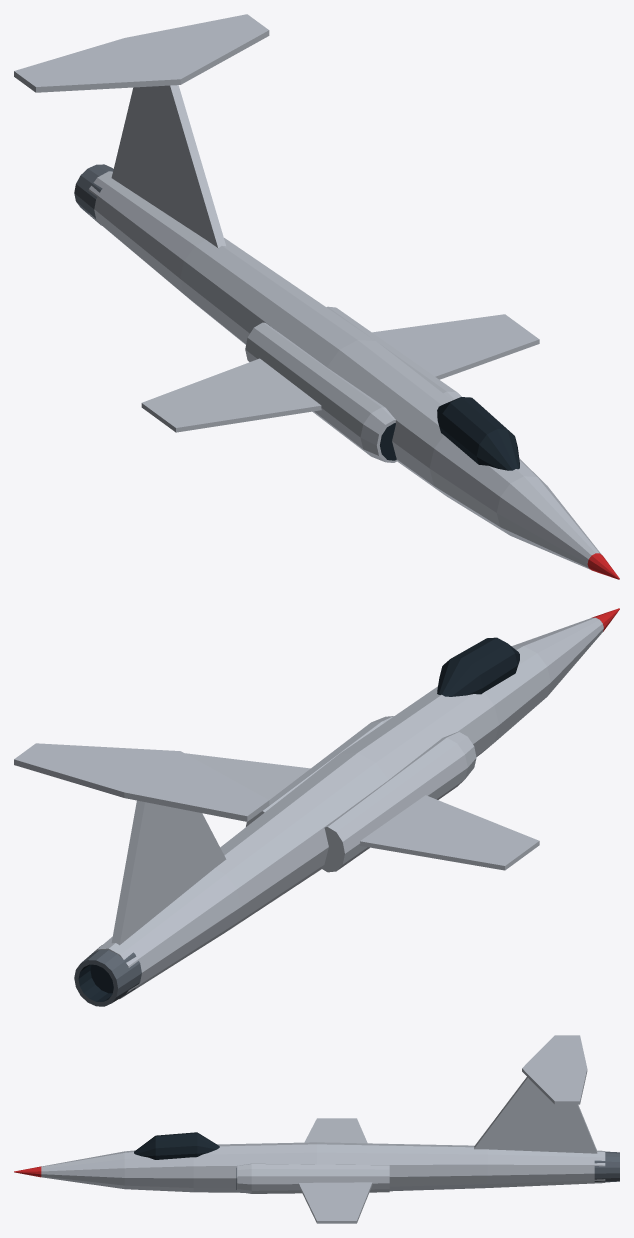
The model's file is starfighter.glb.
The picture shows the model from 3 angles, top to bottom: view 1: azimuth 30°, elevation 25°; view 2: azimuth 150°, elevation 25°; view 3: azimuth 270°, elevation 25°; orthographic projection. The views are drawn at different scales.
Parts seen in each view (by area): view 1: starfighter body; view 2: starfighter body; view 3: starfighter body.
Part boxes in pixels (x1,y1,x2,y2): starfighter body: [14, 14, 619, 579]; starfighter body: [14, 608, 619, 1006]; starfighter body: [14, 1035, 619, 1223].
Bounding box in the file's own units: 6.7 × 3.75 × 16.7.
